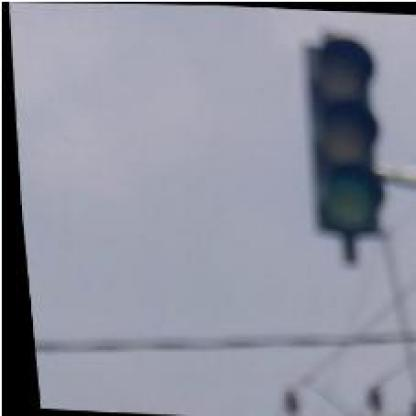green: (298, 37, 388, 238)
